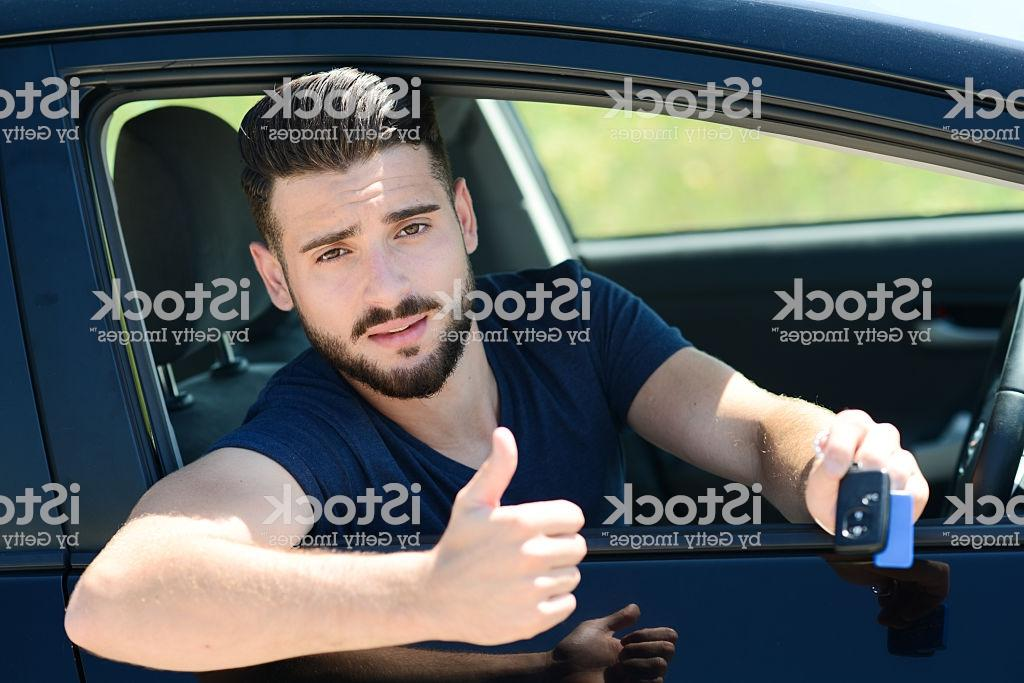thumbsup: (438, 424, 589, 650)
